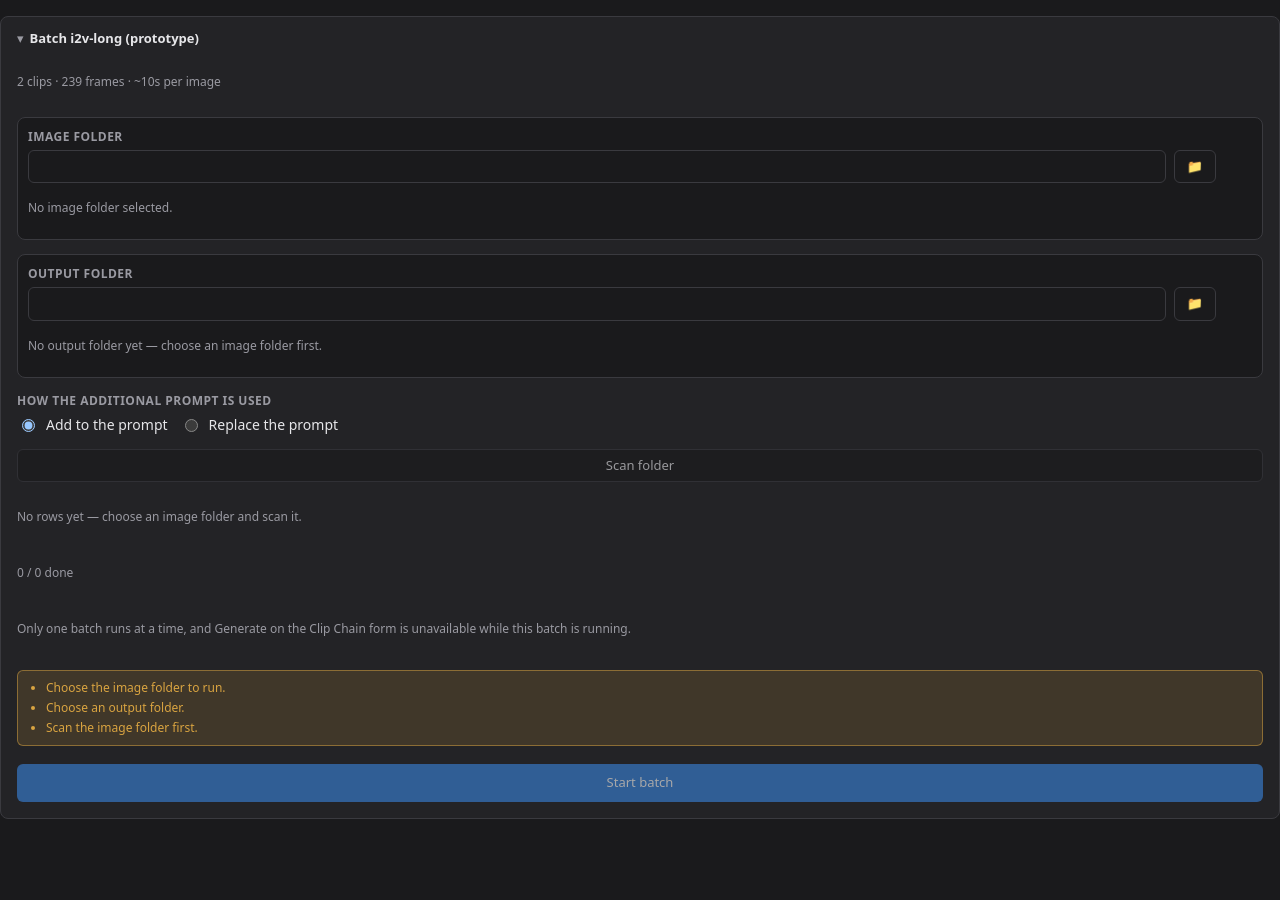
Test: BatchI2vLongSection › add/replaceラジオを切り替えられる
This screenshot has width=1280, height=900.
Expected: the radio button labelled "Add to the prompt" is checked, [22, 419, 35, 432]
Click the radio button labelled "Replace the prompt".
click(191, 426)  # box [185, 419, 198, 432]
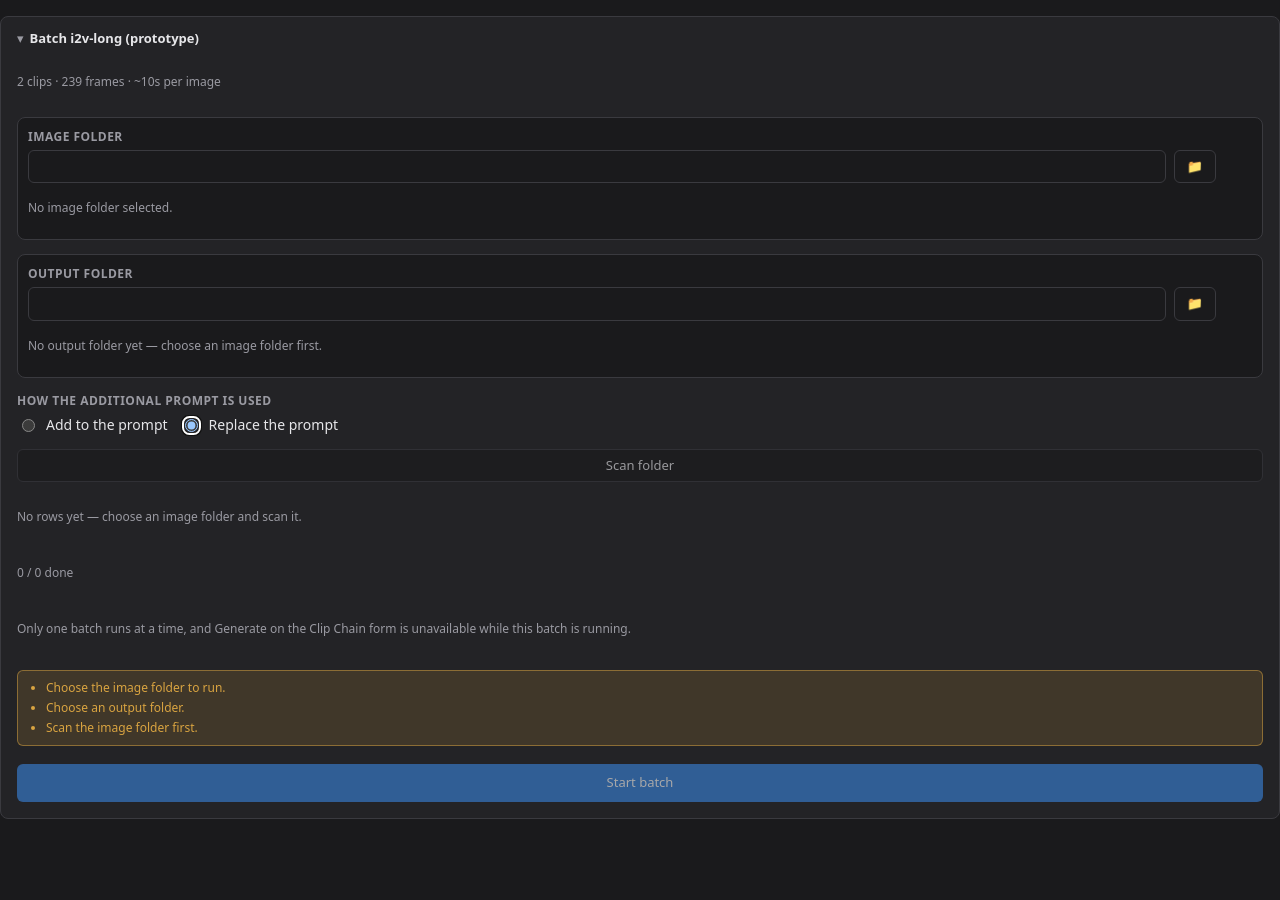
Expected: the radio button labelled "Replace the prompt" is checked, [185, 419, 198, 432]
Expected: the radio button labelled "Add to the prompt" is not checked, [22, 419, 35, 432]
